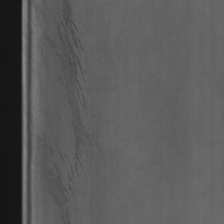water_spot: (55, 2, 94, 191), (31, 128, 68, 221)
